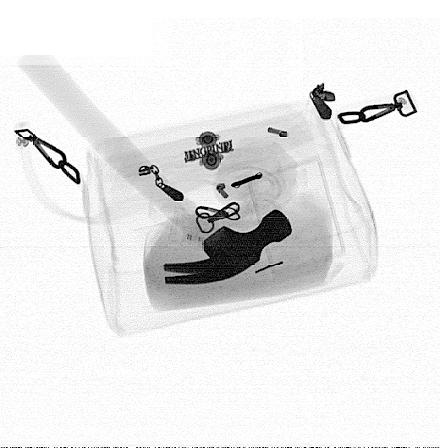Hammer: (15, 46, 292, 286)
